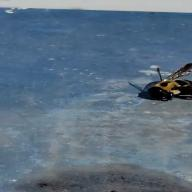Bee: (125, 55, 192, 108)
